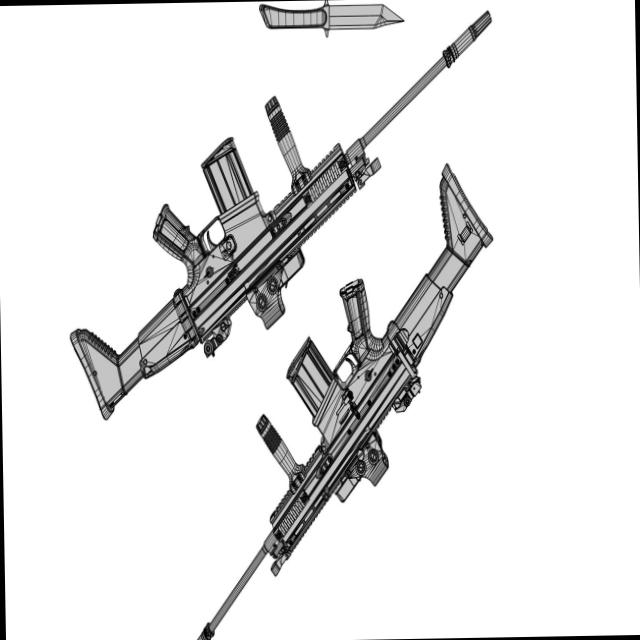Gun: (26, 0, 519, 442), (135, 156, 509, 640), (257, 0, 407, 58)
